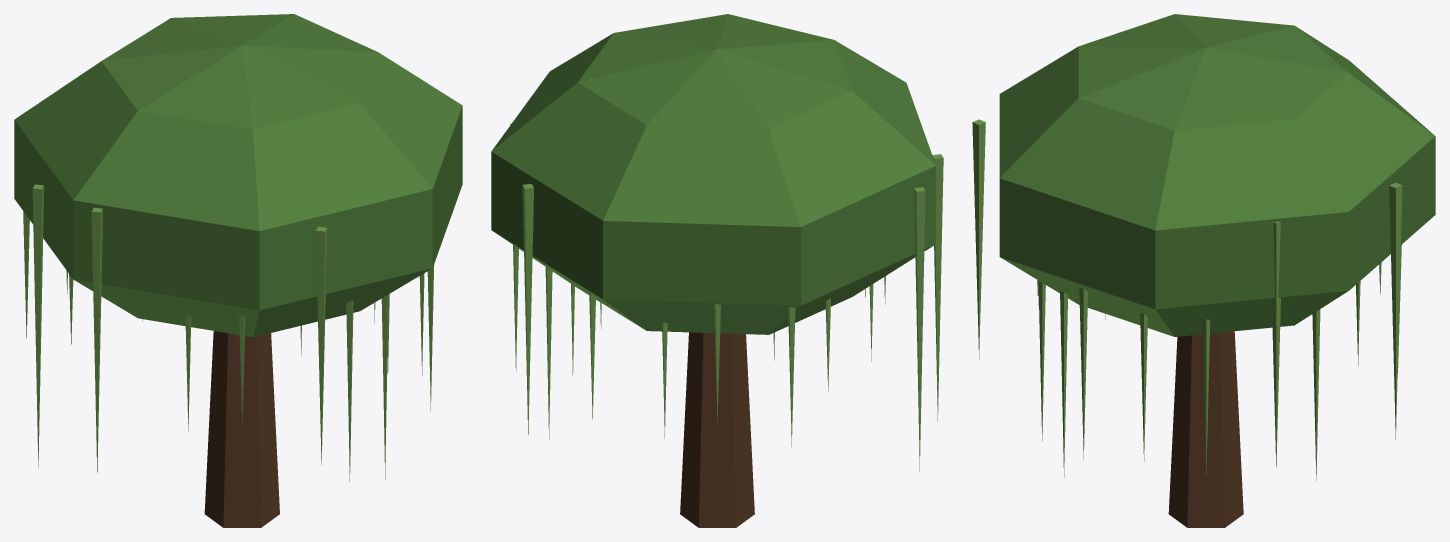
Rendered from br_willow_b.glb.
3 views of the same model, side by side, from view 1: azimuth 30°, elevation 25°; view 2: azimuth 150°, elevation 25°; view 3: azimuth 270°, elevation 25° (orthographic).
Parts seen in each view (by area): view 1: br_willow_b; view 2: br_willow_b; view 3: br_willow_b.
Part boxes in pixels (x1=…): br_willow_b: x1=14, y1=14, x2=462, y2=527; br_willow_b: x1=491, y1=14, x2=943, y2=527; br_willow_b: x1=972, y1=14, x2=1435, y2=527.
Bounding box in the file's own units: 3.47 × 3.84 × 3.46.
